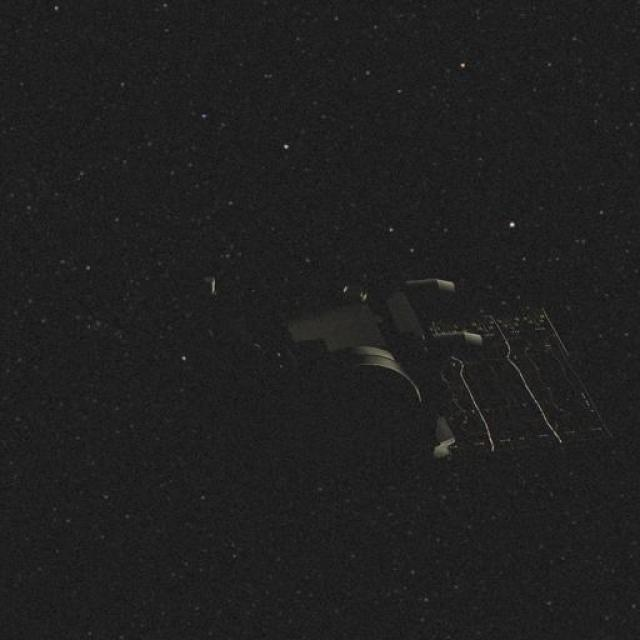proba_3_csc: (164, 236, 611, 463)
